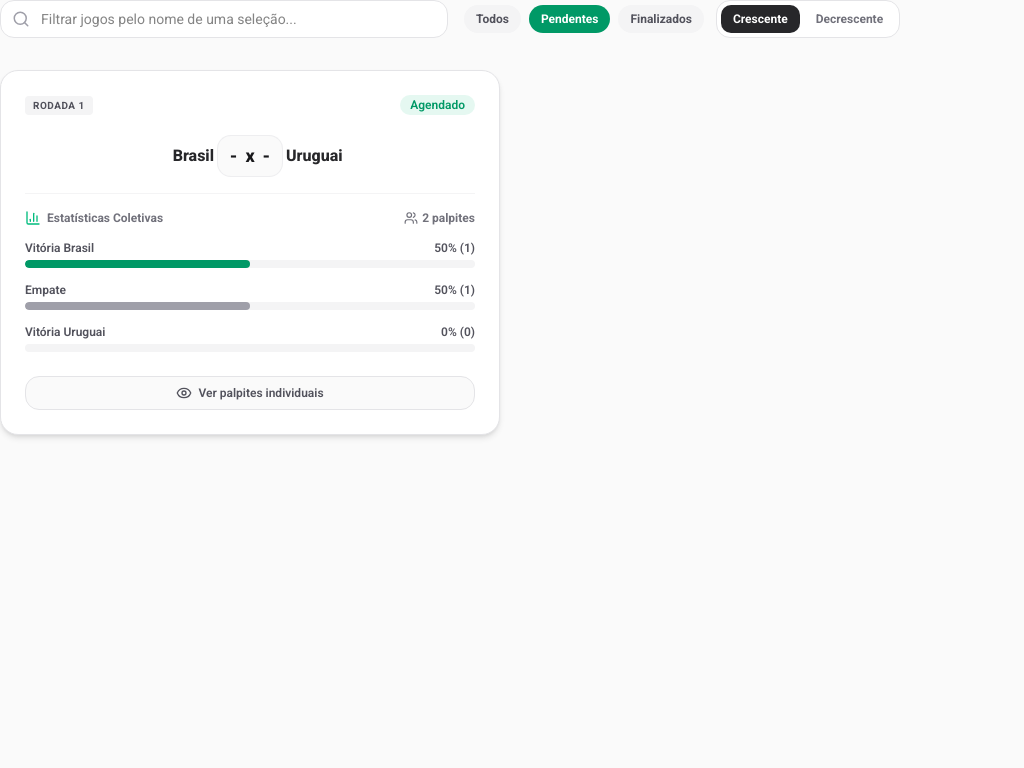
Test: PalpitesStats › Modal de Votação › deve abrir modal com todos os palpites ao clicar no total
Click the button "2 palpites": click(440, 218) top-left (404, 210), bottom-right (475, 226)
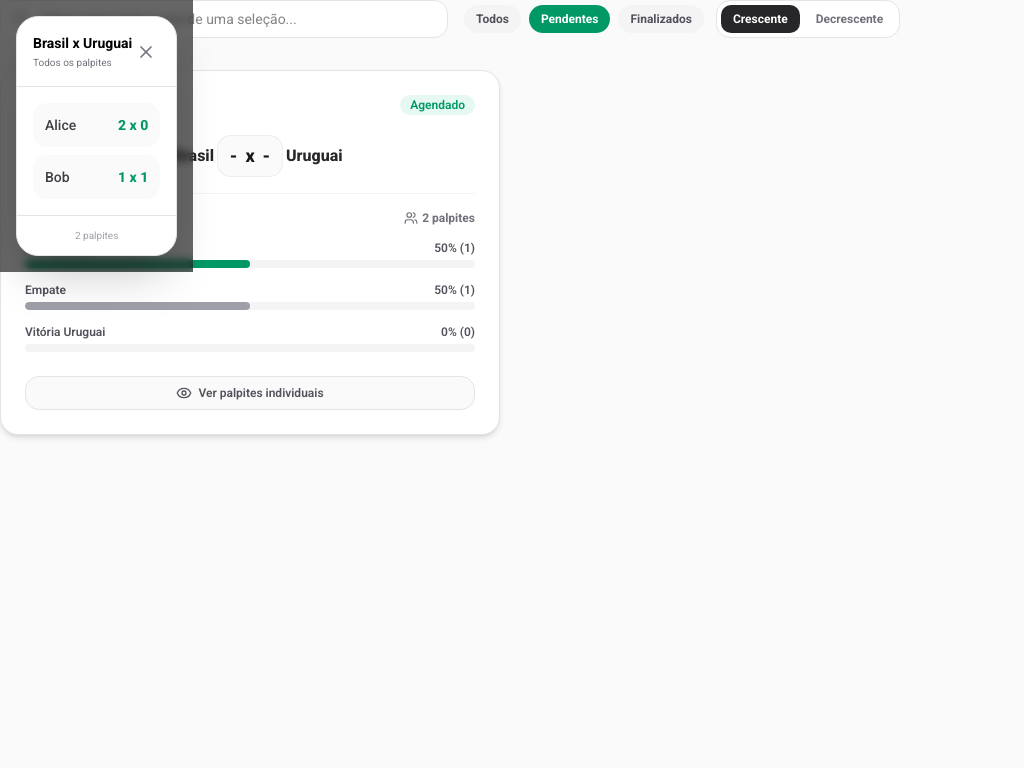
Check: the text "Alice" is shown, box top-left (45, 115), bottom-right (76, 135)
Check: the text "Bob" is shown, box top-left (45, 167), bottom-right (70, 187)
Check: the text "2 x 0" is shown, box top-left (118, 117), bottom-right (148, 133)
